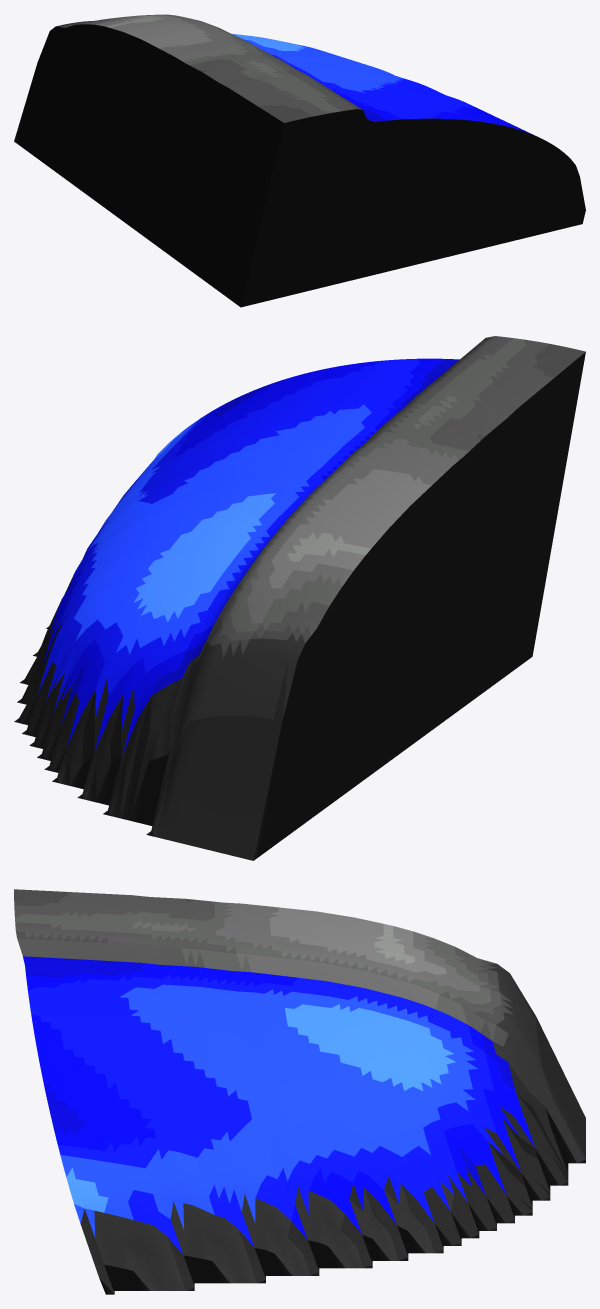
The model's file is time_capsule_18.glb.
The picture shows the model from 3 angles, top to bottom: view 1: azimuth 30°, elevation 25°; view 2: azimuth 150°, elevation 25°; view 3: azimuth 270°, elevation 25°; orthographic projection. The views are drawn at different scales.
Visible parts, largest first — view 1: time_capsule_18; view 2: time_capsule_18; view 3: time_capsule_18.
Boxes of the visible parts, x1,y1,x2,y2 form: time_capsule_18: [14, 14, 585, 307]; time_capsule_18: [14, 336, 585, 860]; time_capsule_18: [14, 889, 585, 1294].
Bounding box in the file's own units: 23.5 × 14.2 × 32.17.
